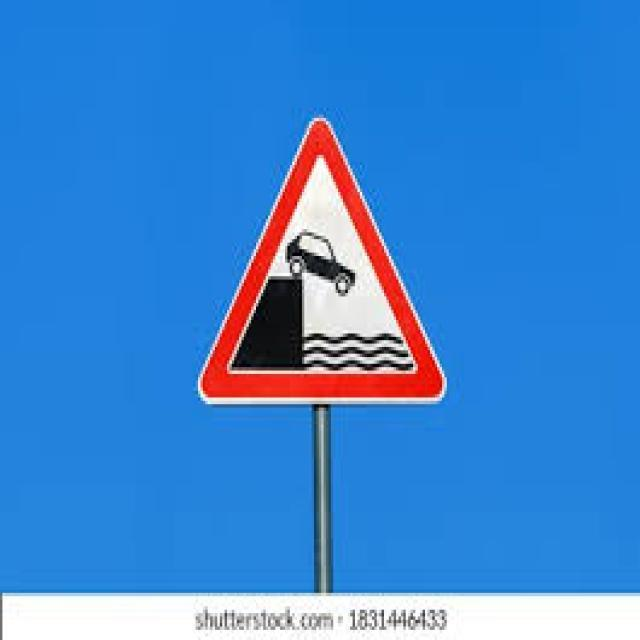quay side or river bank: (195, 106, 449, 410)
